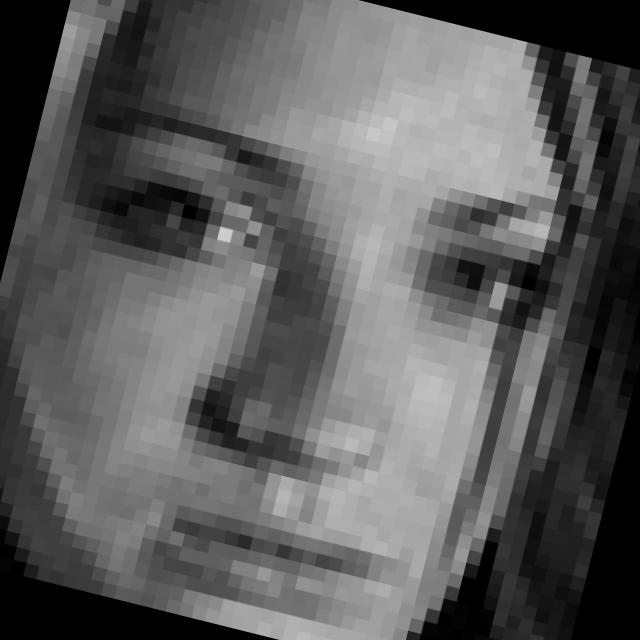neutral: (0, 75, 597, 640)
